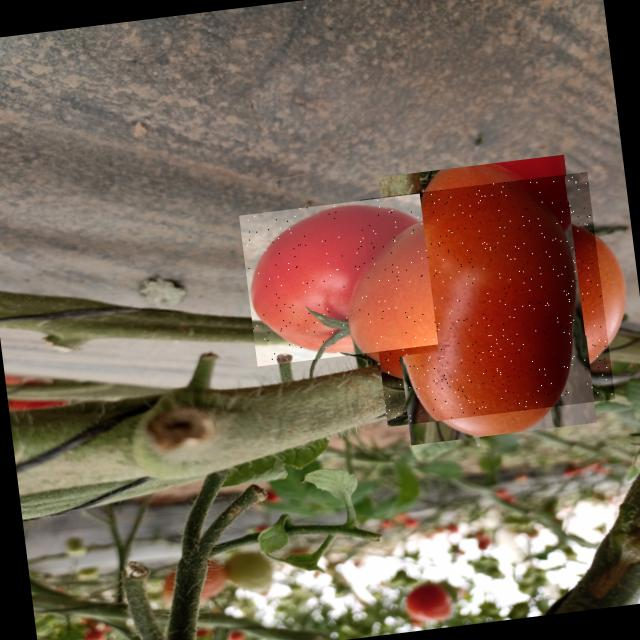Ripe Tomato: (360, 172, 614, 426), (238, 193, 438, 366)
